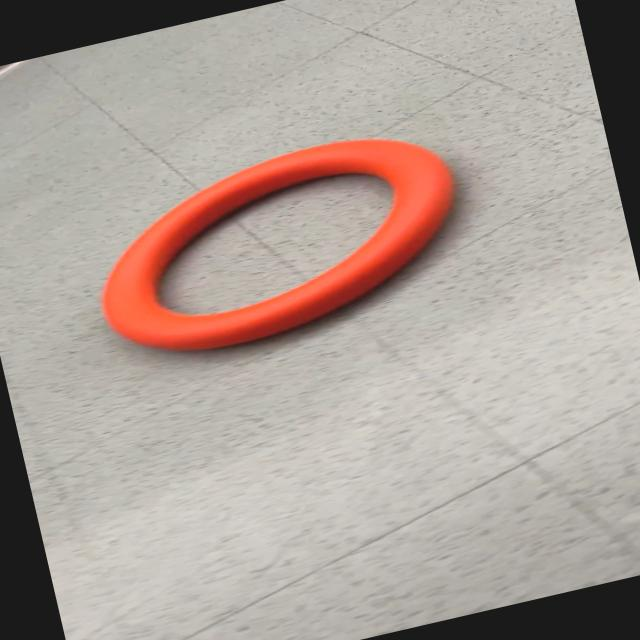note: (75, 114, 481, 373)
